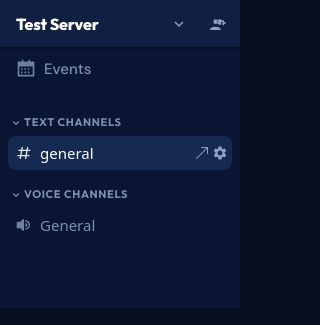
Test: ChannelSidebar › collapses category when clicked
Click on the "Text Channels" category to collapse
Click the button with aria-label "Text Channels, expanded" at {"x": 66, "y": 122}, box [10, 115, 122, 129]
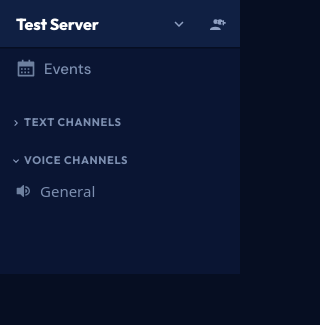
Now the button with aria-label "Text Channels, collapsed" is shown, box [10, 115, 122, 129]
